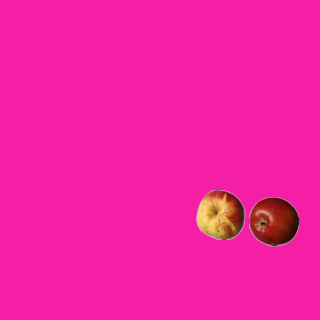Apple Braeburn: (248, 196, 298, 246)
Apple Red Yellow 1: (195, 189, 245, 239)
